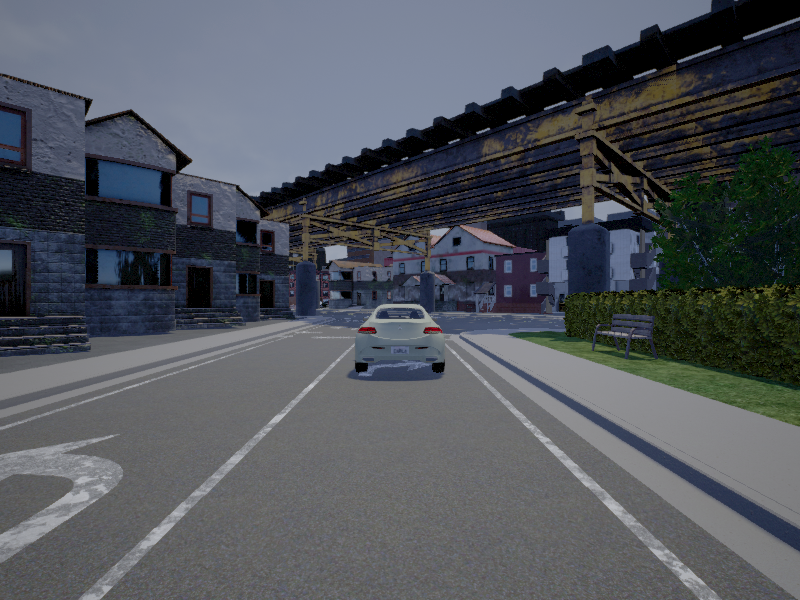Benign: (352, 303, 448, 375)
